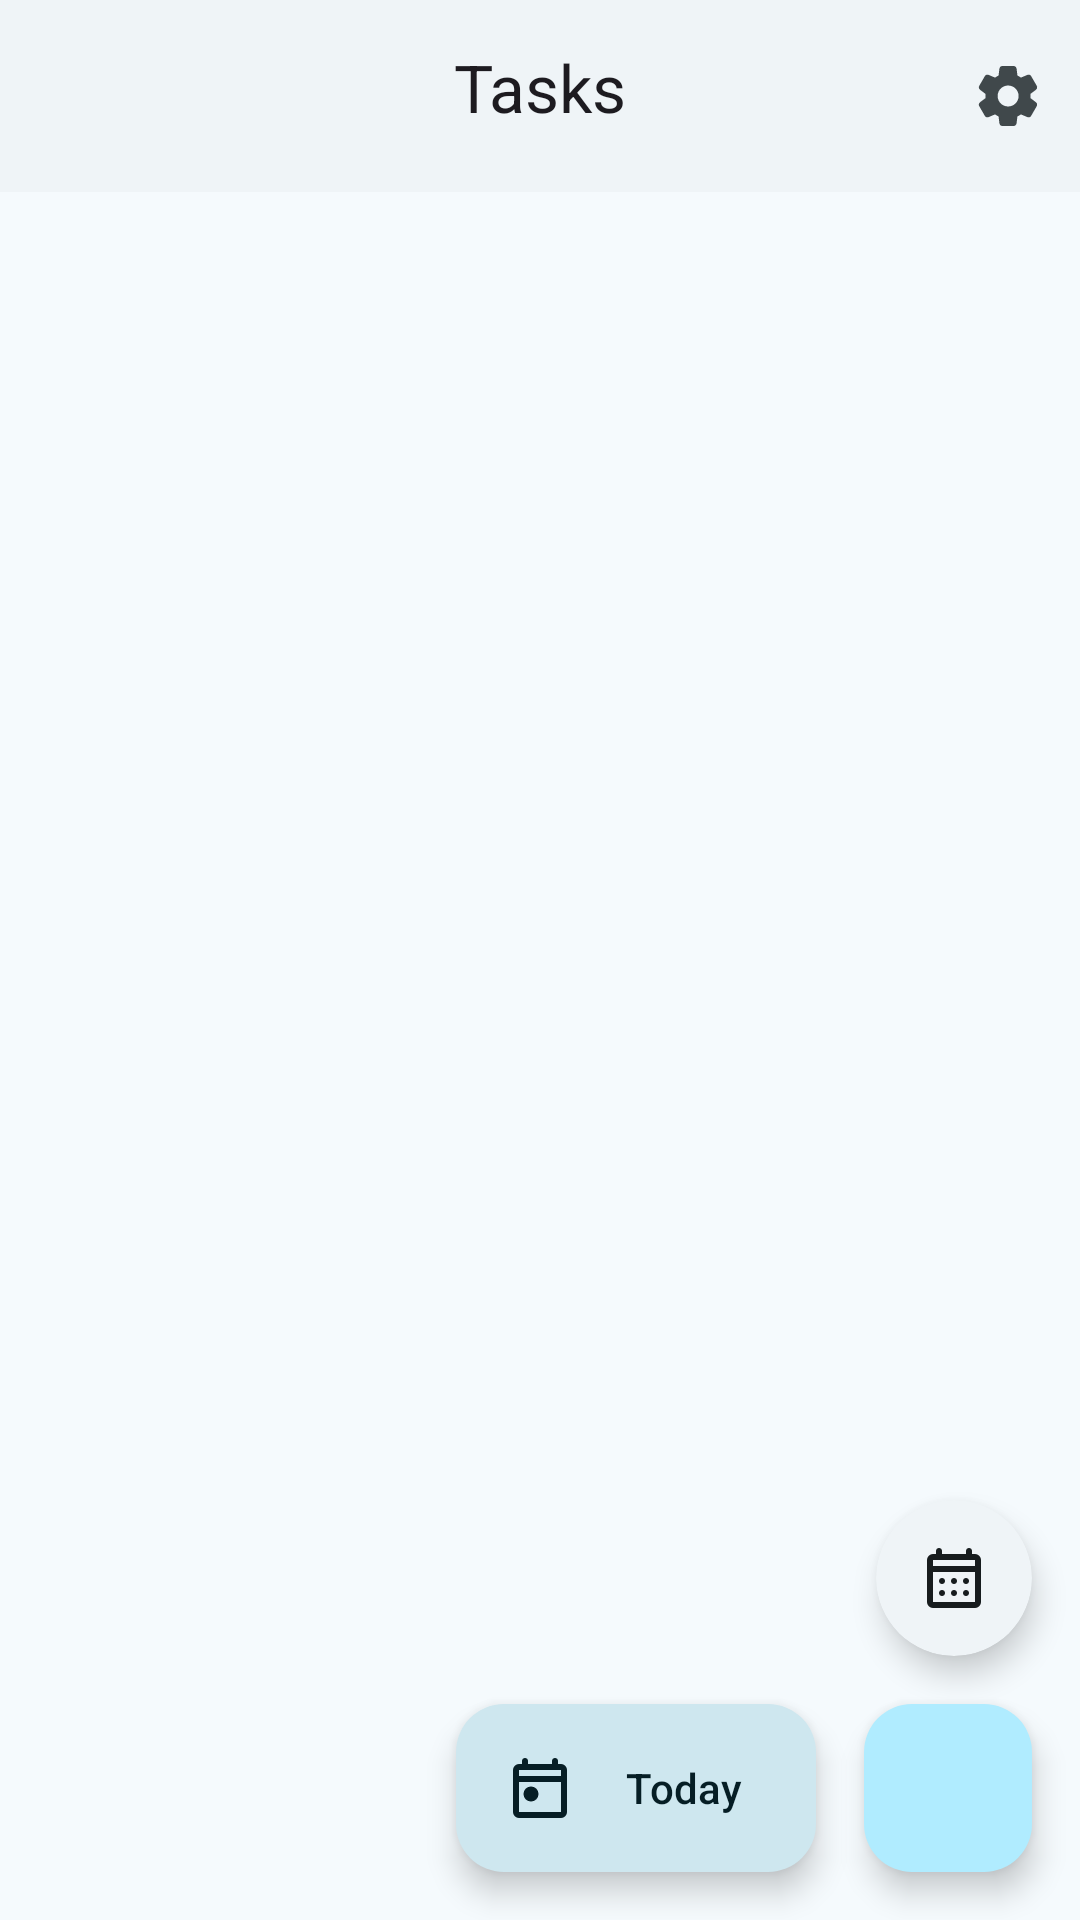

Named icons in this screenshot (1080px x 1920px) and their bounding boxes, (x1, y1, x2, y2):
Calendar: (927, 1548, 981, 1608)
